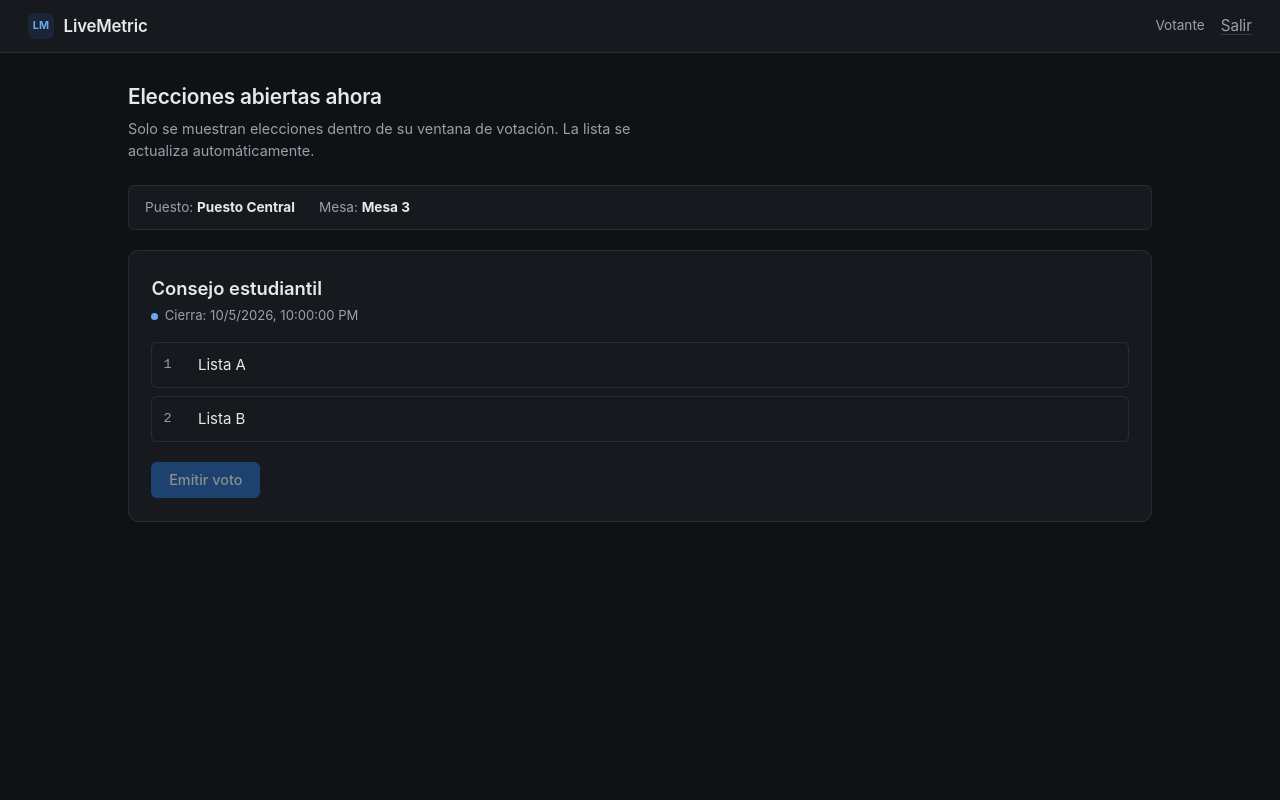
it: vota por la opción elegida y confirma sin decir cuál fue
The image size is (1280, 800).
Click the text "Lista B": [222, 419] box [198,407,246,430]
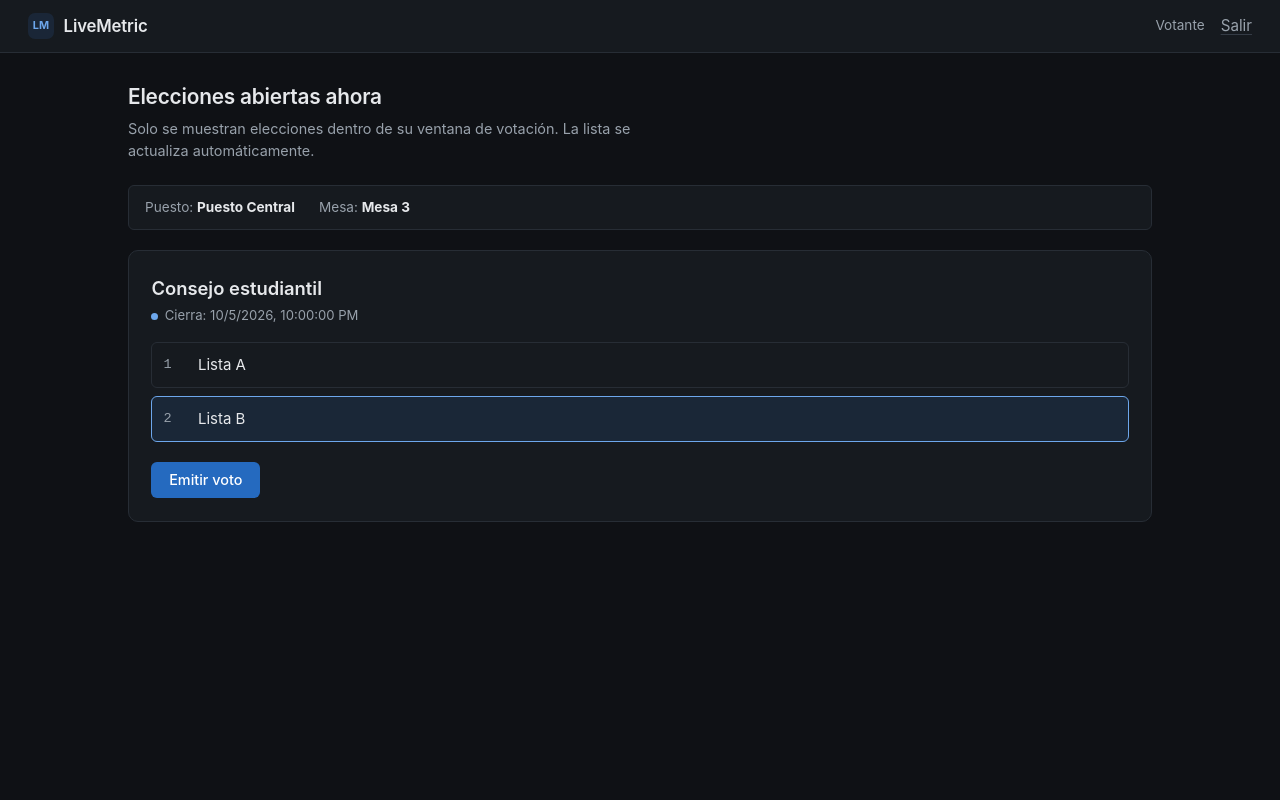
Click the button "Emitir voto": [206, 480] box [151,462,260,498]
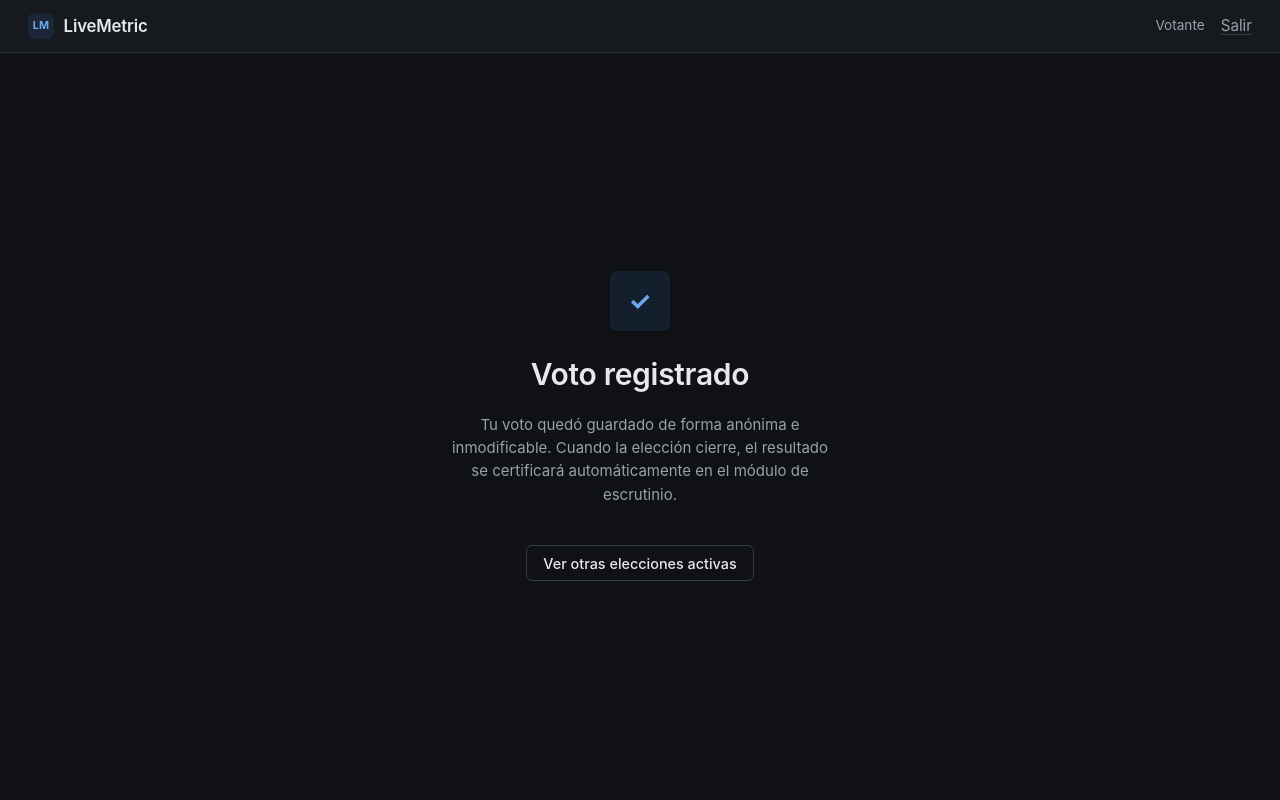
Expected: the heading "Voto registrado" is shown, [531,356,749,392]
Expected: the text "Lista B" is gone
